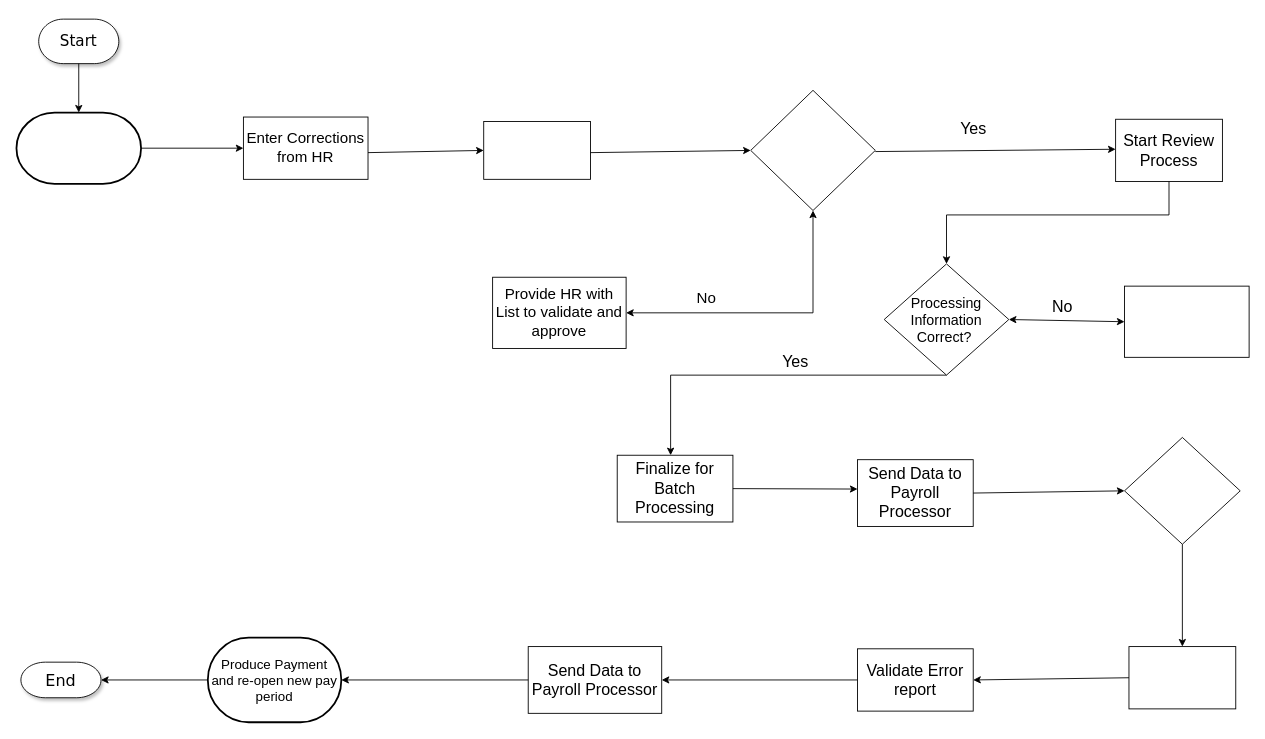
Some shapes in this 1265 by 739 pixel diagram are drawn without their labels. Here are the shapes that lost their labels. From the top down, the centre of each, then its label:
At pixel 78 147: "OpenPay- Create TimeSheets".
At pixel 537 150: "Prepare close time reporting".
At pixel 812 149: "All Employees reported?".
At pixel 1186 321: "HR to correct errors and return to review process".
At pixel 1182 490: "Data Accepted".
At pixel 1182 677: "Produce error report and deposit report".
